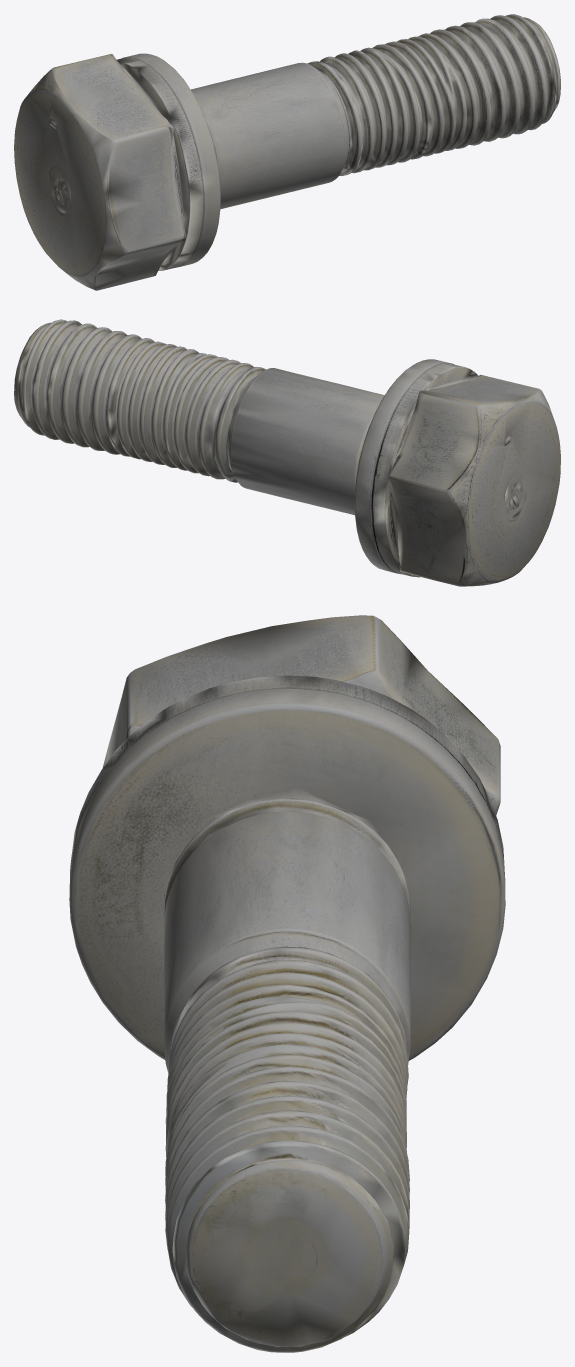
Rendered from asset01.glb.
3 renders of one model, top to bottom at view 1: azimuth 30°, elevation 25°; view 2: azimuth 150°, elevation 25°; view 3: azimuth 270°, elevation 25°, orthographic. The views are drawn at different scales.
Parts seen in each view (by area): view 1: asset01; view 2: asset01; view 3: asset01.
Part boxes in pixels (x1,y1,x2,y2): asset01: (14,14,560,290); asset01: (14,319,560,586); asset01: (69,615,505,1352).
Size of the model in its own units: 0.05 by 0.0195 by 0.0198.
1 material, 1 textured.
